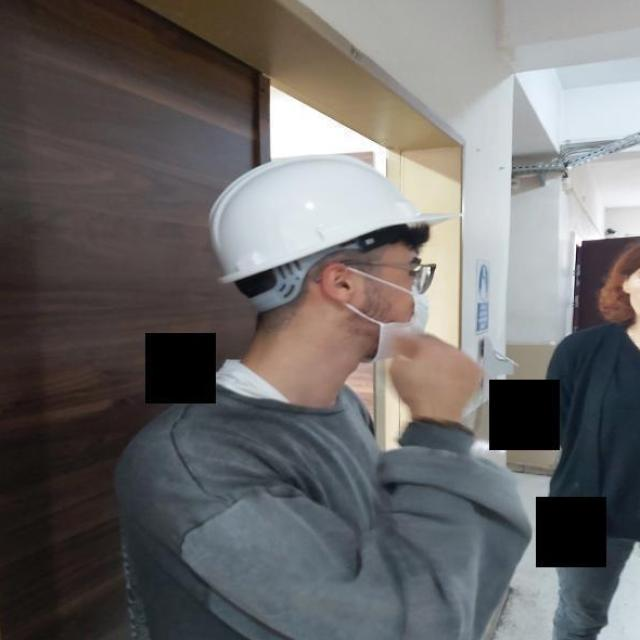helmet: (207, 152, 458, 285)
